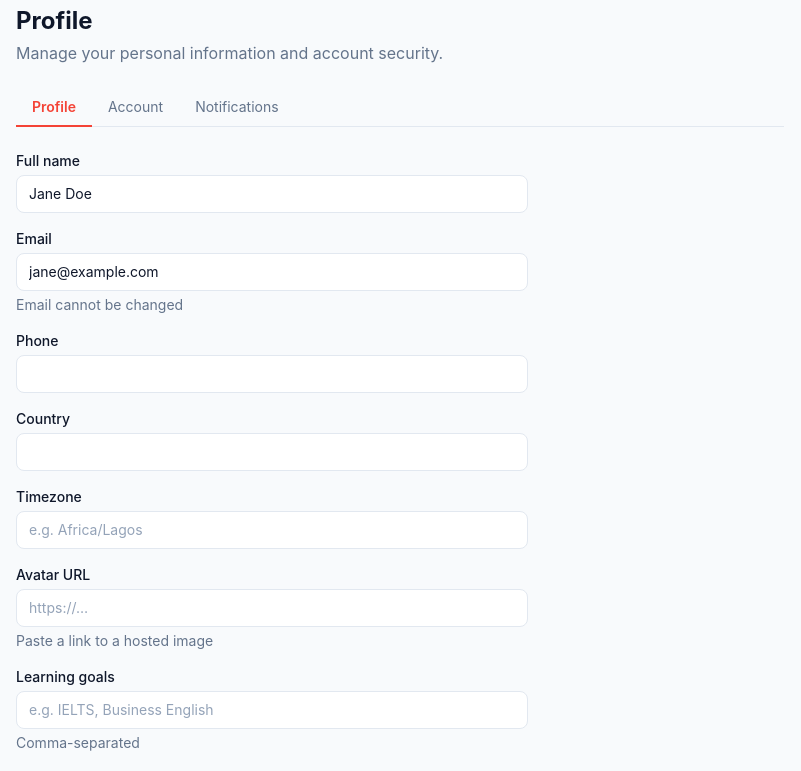
Test: ProfilePage › loads the profile and disables Save Changes until the form is dirty
The image size is (801, 771).
Replace the text in the field showing "Jane Doe" with "Jane Smith" at (272, 194), box [16, 175, 528, 213]
(page scrolled)
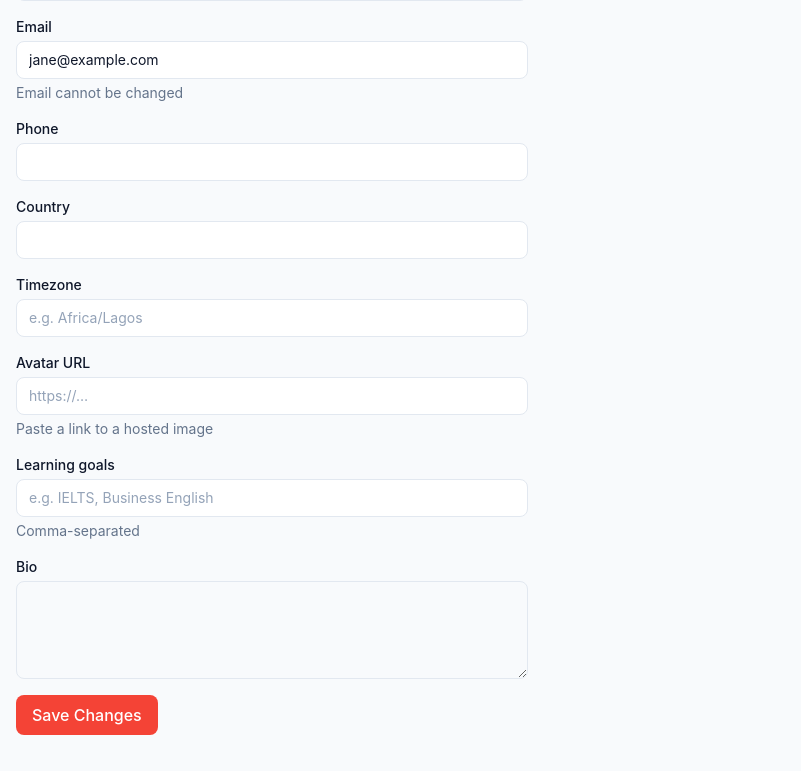
Check: the button "Save Changes" is enabled, box [16, 695, 158, 735]
